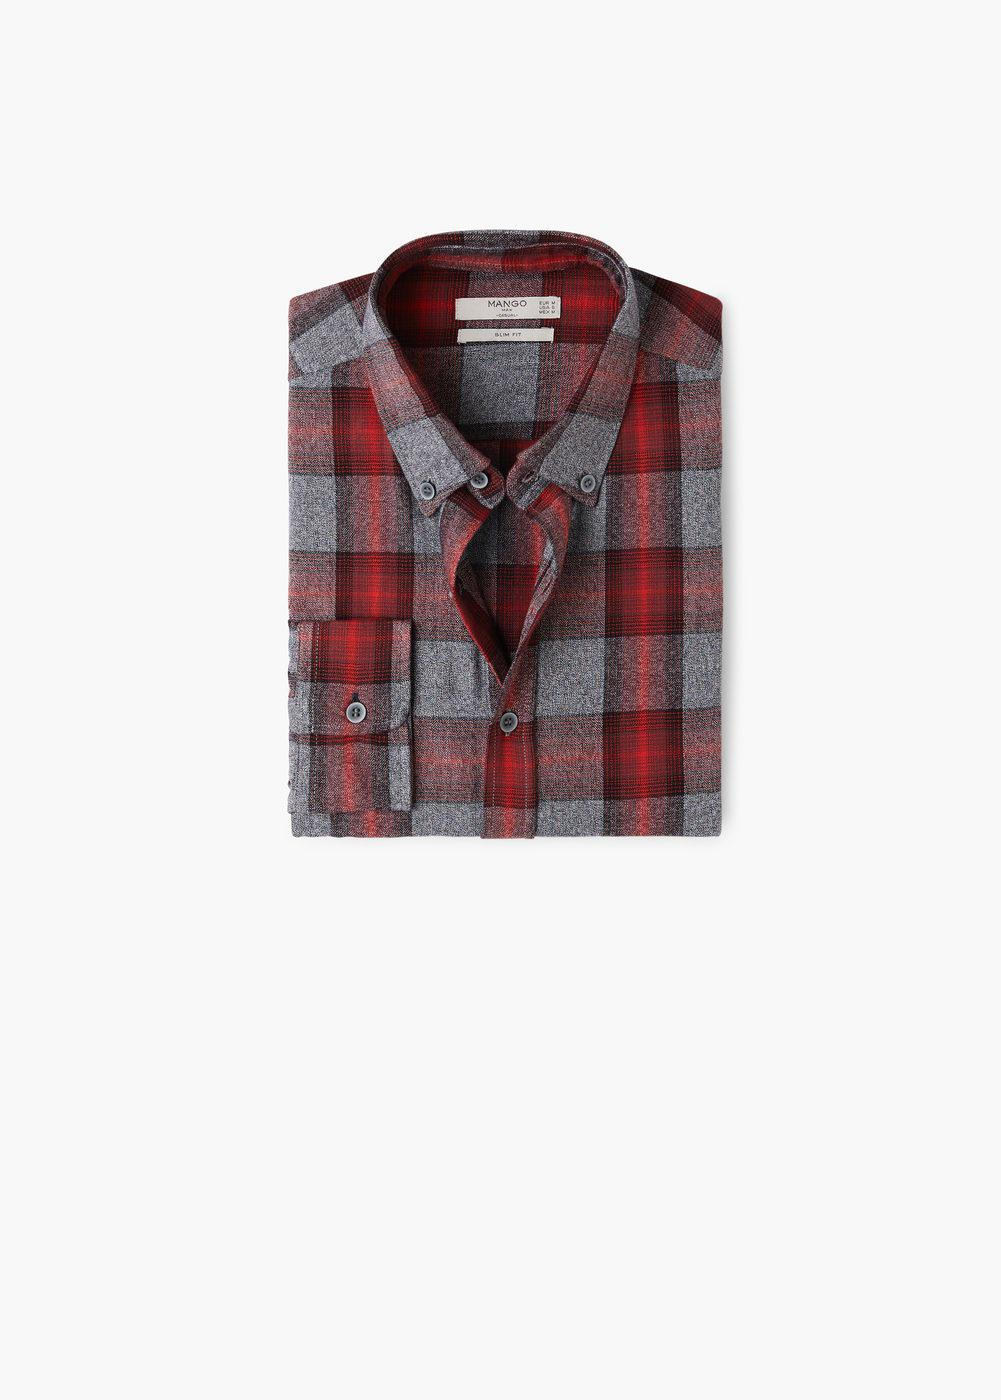teeshirt: (289, 235, 725, 852)
